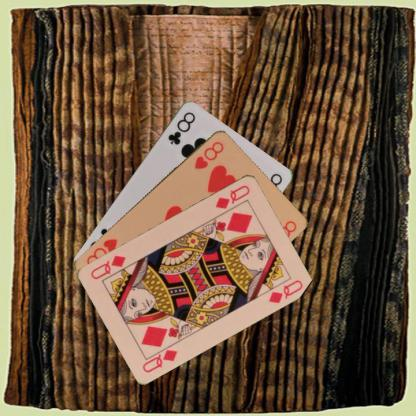8c: (164, 109, 197, 146)
8h: (191, 138, 225, 171)
Qd: (140, 339, 178, 374), (213, 182, 251, 210)
